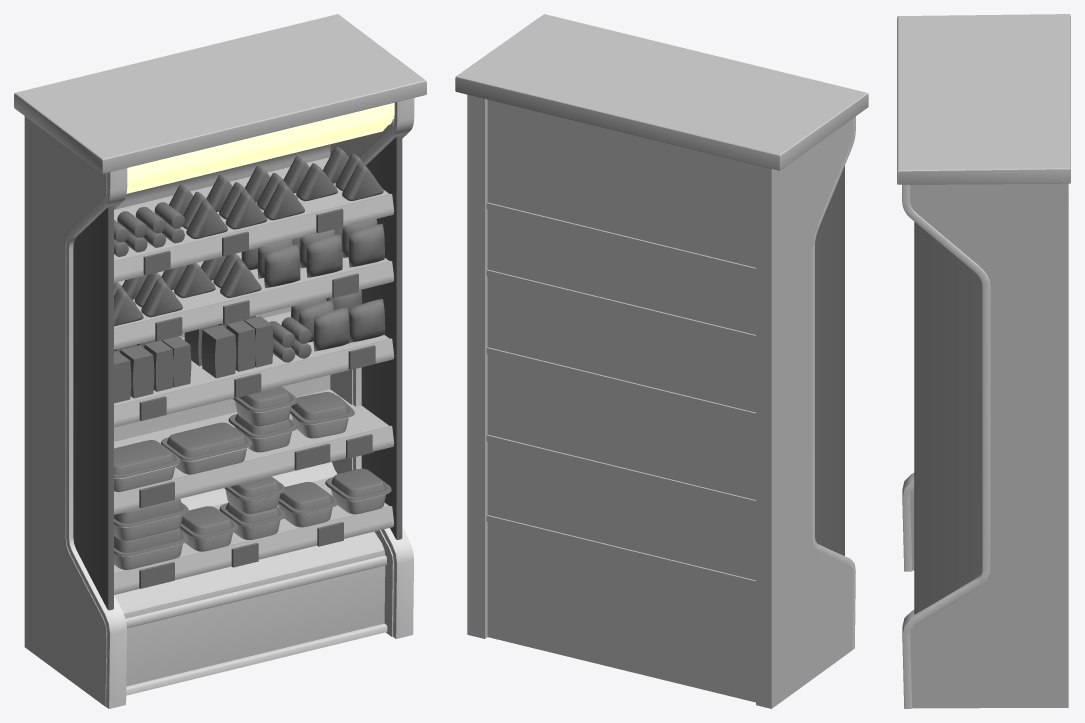
Rendered from SM_fridge_freshfood.fbx.
3 views of the same model, side by side, from view 1: azimuth 30°, elevation 25°; view 2: azimuth 150°, elevation 25°; view 3: azimuth 270°, elevation 25° (orthographic). The views are drawn at different scales.
Visible parts, largest first — view 1: Object32377; view 2: Object32377; view 3: Object32377.
Boxes of the visible parts, x1=… form: Object32377: x1=14, y1=14, x2=426, y2=708; Object32377: x1=455, y1=14, x2=868, y2=708; Object32377: x1=897, y1=14, x2=1070, y2=708.
Bounding box in the file's own units: 146 × 239 × 68.97.
